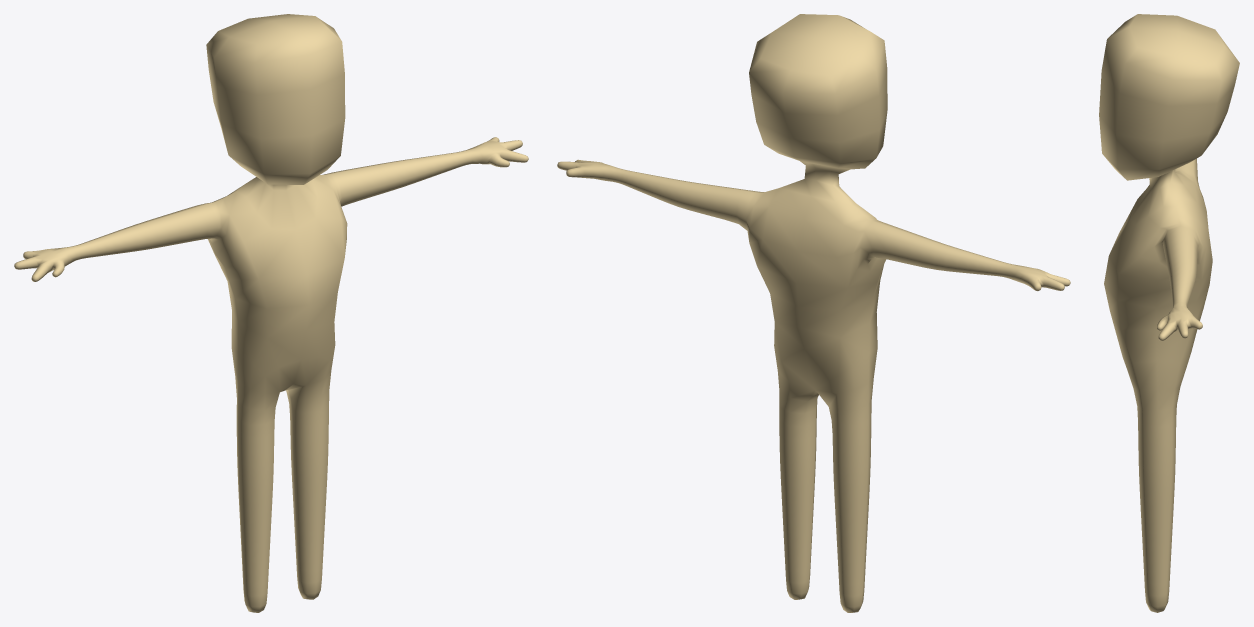
Rendered from mano.fbx.
3 views of the same model, side by side, from view 1: azimuth 30°, elevation 25°; view 2: azimuth 150°, elevation 25°; view 3: azimuth 270°, elevation 25° (orthographic).
Visible parts, largest first — view 1: SkinBits; view 2: SkinBits; view 3: SkinBits.
Part boxes in pixels (<box>): SkinBits: <box>14,14,528,612</box>; SkinBits: <box>557,14,1070,612</box>; SkinBits: <box>1099,14,1239,612</box>.
Bounding box in the file's own units: 154 × 169 × 37.66.
